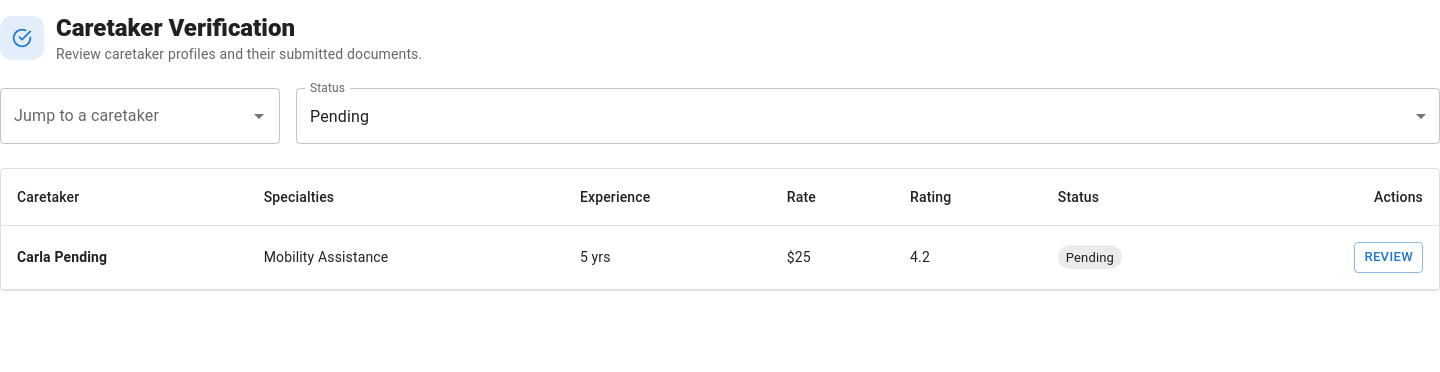
Test: Admin CaretakerVerification.page › switching the status filter to All statuses shows every caretaker
This screenshot has width=1440, height=372.
Check: the text "Carla Pending" is shown, box [1,226,248,289]
Click the dropdown named "Status" at [340, 116], box [310,106,369,126]
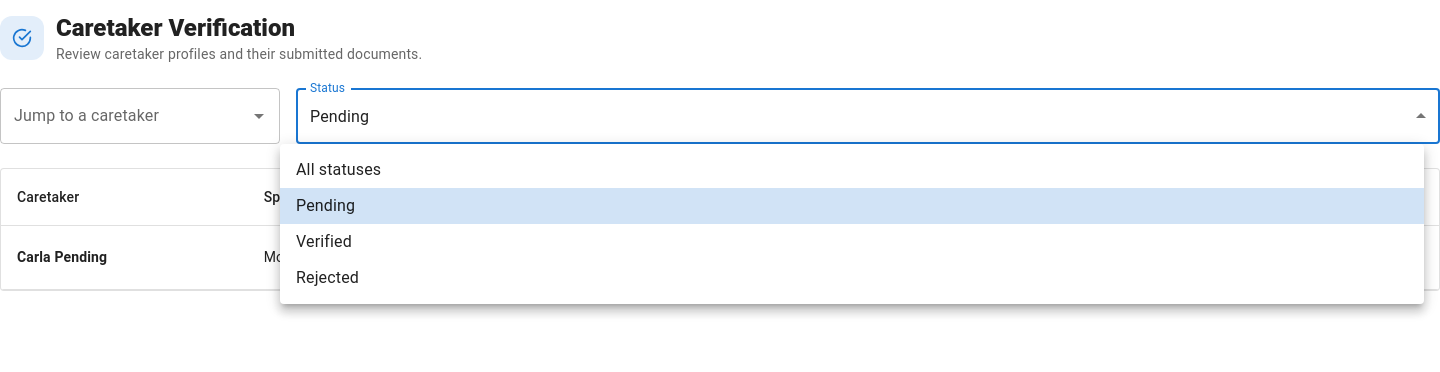
Click the option "All statuses" at [339, 170], box [296,160,381,179]
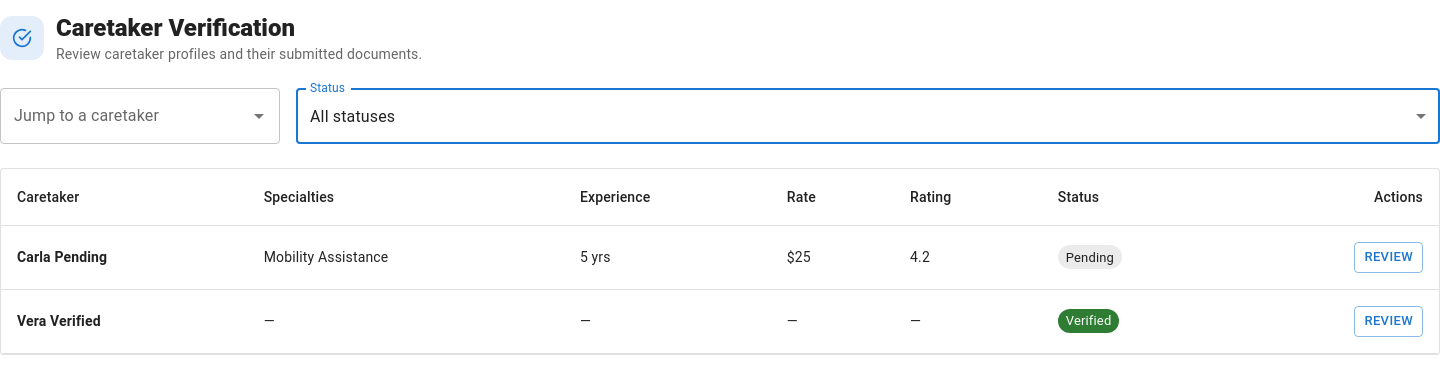
Check: the text "Vera Verified" is shown, box [1,289,248,353]
